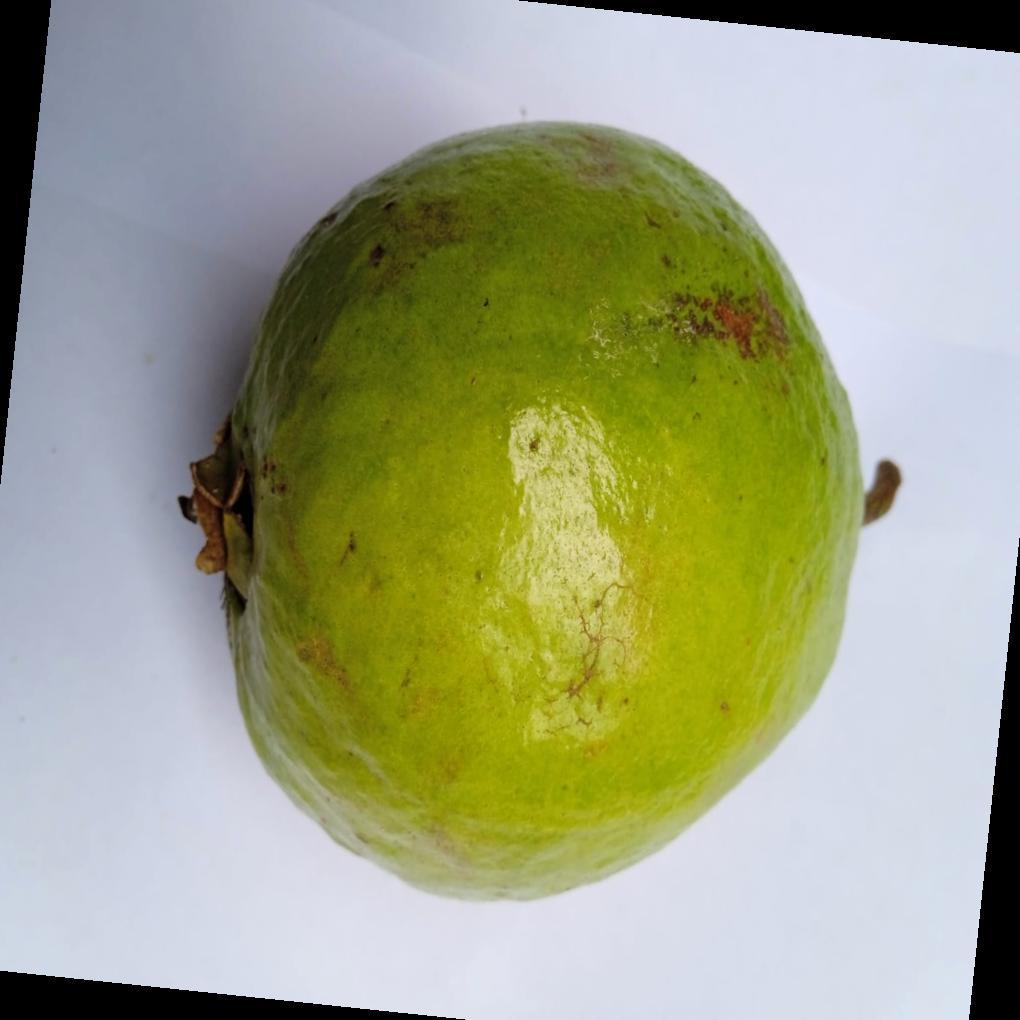FreshGuava: (180, 121, 873, 908)
